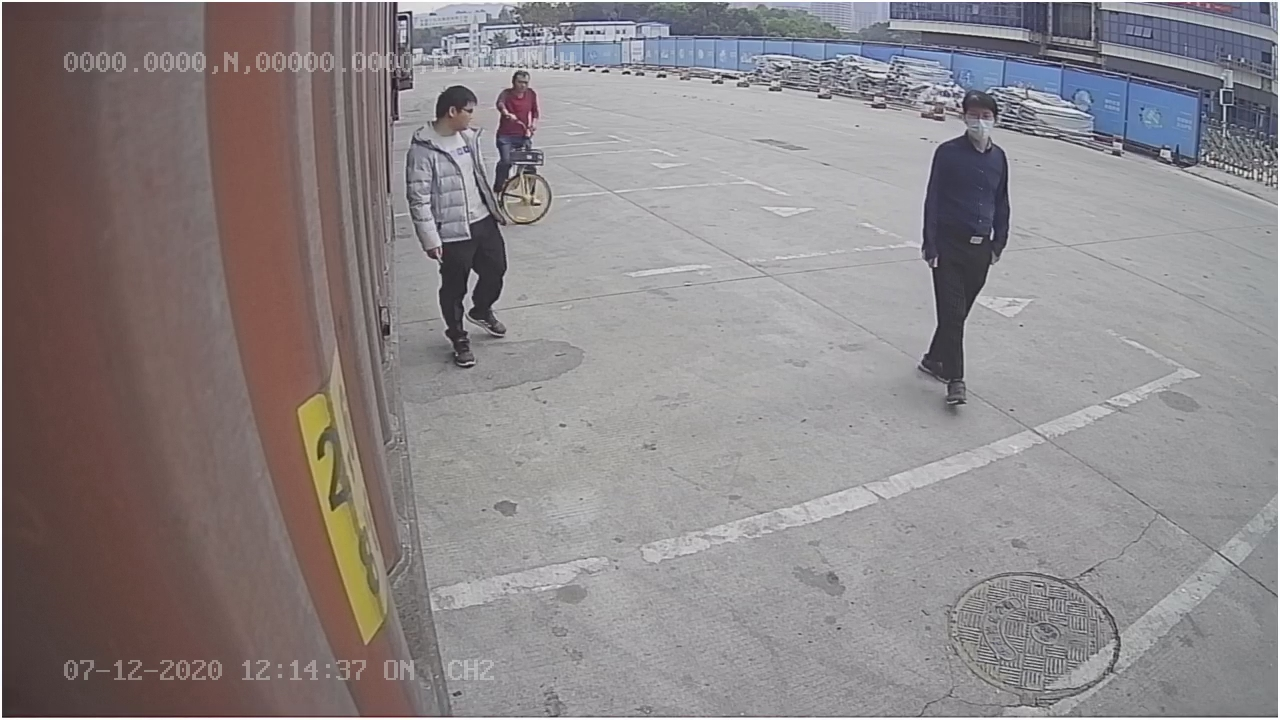person: (916, 83, 1014, 404)
